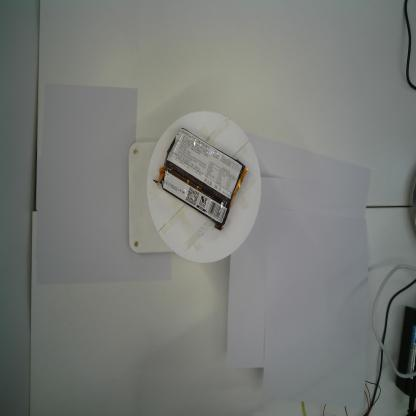Dessert: (152, 125, 249, 231)
